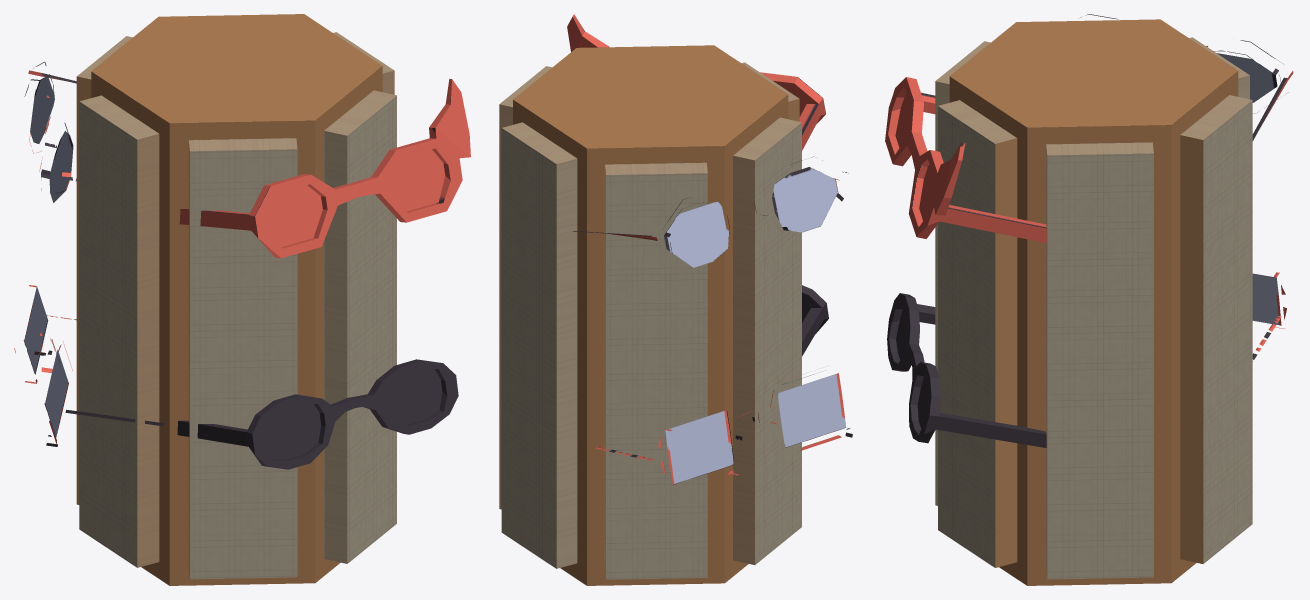
Rendered from StandKacamata.fbx.
3 renders of one model, left to right at view 1: azimuth 30°, elevation 25°; view 2: azimuth 150°, elevation 25°; view 3: azimuth 270°, elevation 25°, orthographic. The views are drawn at different scales.
Visible parts, largest first — view 1: StandKacamata; view 2: StandKacamata; view 3: StandKacamata.
Part boxes in pixels (bbox=[...]): StandKacamata: bbox=[14, 14, 470, 585]; StandKacamata: bbox=[499, 14, 852, 585]; StandKacamata: bbox=[885, 14, 1293, 585].
Bounding box in the file's own units: 116 × 144 × 116.
2 materials, 2 textured.
